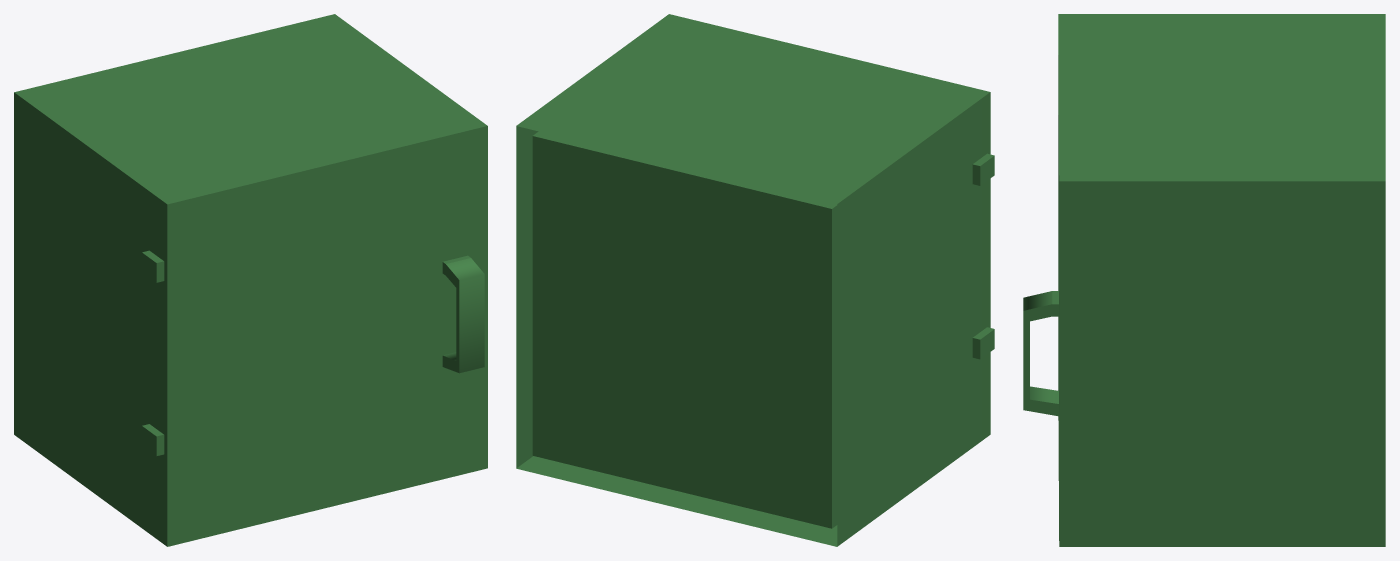
Rendered from cabinet.fbx.
3 renders of one model, left to right at view 1: azimuth 30°, elevation 25°; view 2: azimuth 150°, elevation 25°; view 3: azimuth 270°, elevation 25°, orthographic. The views are drawn at different scales.
Visible parts, largest first — view 1: polySurface658; view 2: polySurface658; view 3: polySurface658.
Boxes of the visible parts, <box> form: polySurface658: <box>14,14,487,546</box>; polySurface658: <box>516,14,994,546</box>; polySurface658: <box>1023,14,1385,546</box>.
Bounding box in the file's own units: 4.33 × 4.31 × 3.87.
